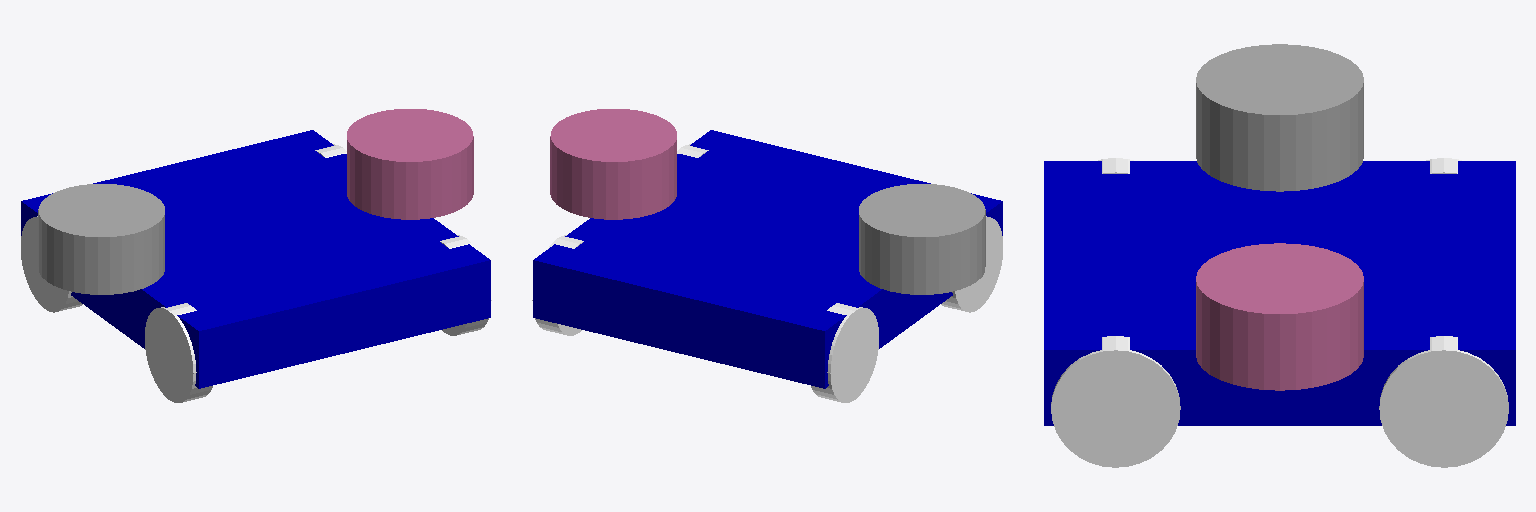
robot.urdf — rc_baseplate:
<?xml version="1.0"?>
<robot name="rc_baseplate">
  <material name="blue">
    <color rgba="0 0 0.8 1" />
  </material>

  <material name="white">
    <color rgba="1 1 1 1" />
  </material>

  <link name="base_footprint">
    <visual>
      <origin xyz="0 0 0" rpy="0 0 0" />
      <geometry>
        <box size="0.05 0.05 0.001" />
      </geometry>
    </visual>
  </link>

  <joint name="base_joint" type="fixed">
    <origin xyz="0 0 0" rpy="0 0 0" />
    <parent link="base_footprint"/>
    <child link="base_link" />
  </joint>

  <!-- 底盘本体 -->
  <link name="base_link">
    <visual>
      <geometry>
        <box size="0.53 0.55945 0.1" />
      </geometry>
      <material name="blue" />
    </visual>
    <collision>
      <geometry>
        <box size="0.53 0.55945 0.1" />
      </geometry>
    </collision>
    <inertial>
      <mass value="20" />
      <inertia ixx="4.00538" ixy="0.0" ixz="0.0" iyy="4.00538" iyz="0.0" izz="0.51076" />
    </inertial>
  </link>

  <!-- 轮子 -->
  <link name="wheel_lf">
    <visual>
      <geometry>
        <cylinder length="0.0409" radius="0.077" />
      </geometry>
      <material name="white" />
    </visual>
  </link>
  <link name="wheel_rf">
    <visual>
      <geometry>
        <cylinder length="0.0409" radius="0.077" />
      </geometry>
      <material name="white" />
    </visual>
  </link>
  <link name="wheel_lb">
    <visual>
      <geometry>
        <cylinder length="0.0409" radius="0.077" />
      </geometry>
      <material name="white" />
    </visual>
  </link>
  <link name="wheel_rb">
    <visual>
      <geometry>
        <cylinder length="0.0409" radius="0.077" />
      </geometry>
      <material name="white" />
    </visual>
  </link>

  <!-- 轮子与底盘链接的关节 -->
  <joint name="base_to_wheel_lf" type="fixed">
    <parent link="base_link" />
    <child link="wheel_lf" />
    <origin xyz="-0.25 0.195 -0.025" rpy="0 1.57075 0" />
  </joint>

  <joint name="base_to_wheel_rf" type="fixed">
    <parent link="base_link" />
    <child link="wheel_rf" />
    <origin xyz="0.25 0.195 -0.025" rpy="0 -1.57075 0" />
  </joint>

  <joint name="base_to_wheel_lb" type="fixed">
    <parent link="base_link" />
    <child link="wheel_lb" />
    <origin xyz="-0.25 -0.195 -0.025" rpy="0 1.57075 0" />
  </joint>

  <joint name="base_to_wheel_rb" type="fixed">
    <parent link="base_link" />
    <child link="wheel_rb" />
    <origin xyz="0.25 -0.195 -0.025" rpy="0 -1.57075 0" />
  </joint>

  <!-- 雷达1 -->
  <link name="laser1">
    <visual>
      <geometry>
        <cylinder length="0.1" radius="0.1" />
      </geometry>
    </visual>
  </link>
  <joint name="laser1_joint" type="fixed">
    <origin rpy="0 0 0" xyz="0.2797 0 0.1" />
    <parent link="base_link" />
    <child link="laser1" />
  </joint>

  <!-- 雷达2 -->
  <link name="laser2">
    <visual>
      <geometry>
        <cylinder length="0.1" radius="0.1" />
      </geometry>
    </visual>
  </link>
  <joint name="laser2_joint" type="fixed">
    <origin rpy="0 0 3.1416" xyz="-0.2797 0.0 0.1" />
    <parent link="base_link" />
    <child link="laser2" />
  </joint>
</robot>

--- Facts derived from the render (not from the file) ---
3 views of the same robot in one strip: view 1: azimuth 30°, elevation 25°; view 2: azimuth 150°, elevation 25°; view 3: azimuth 270°, elevation 25° (orthographic).
Model rc_baseplate with 8 links and 7 joints (7 fixed), rooted at base_footprint, posed every joint at zero.
Visible links, largest first — view 1: base_link, laser1, laser2, wheel_lb, wheel_lf, wheel_rb; view 2: base_link, laser1, laser2, wheel_lf, wheel_lb, wheel_rf; view 3: base_link, laser1, laser2, wheel_rf, wheel_rb.
Boxes of the visible links, x1,y1,x2,y2 form: base_link: [21, 130, 490, 388]; laser1: [347, 109, 473, 219]; laser2: [38, 184, 164, 294]; wheel_lb: [145, 303, 212, 402]; wheel_lf: [21, 216, 82, 312]; wheel_rb: [440, 235, 491, 335]; base_link: [533, 130, 1002, 388]; laser1: [550, 109, 676, 219]; laser2: [859, 184, 985, 294]; wheel_lf: [811, 303, 878, 402]; wheel_lb: [941, 216, 1002, 312]; wheel_rf: [532, 235, 583, 335]; base_link: [1044, 161, 1515, 425]; laser1: [1196, 243, 1363, 390]; laser2: [1196, 44, 1363, 191]; wheel_rf: [1379, 336, 1508, 467]; wheel_rb: [1051, 336, 1180, 467].
Size in the robot's own frame: 0.7594 by 0.5594 by 0.252 metres.
Geometry: primitives only (box / cylinder / sphere), no mesh files.
